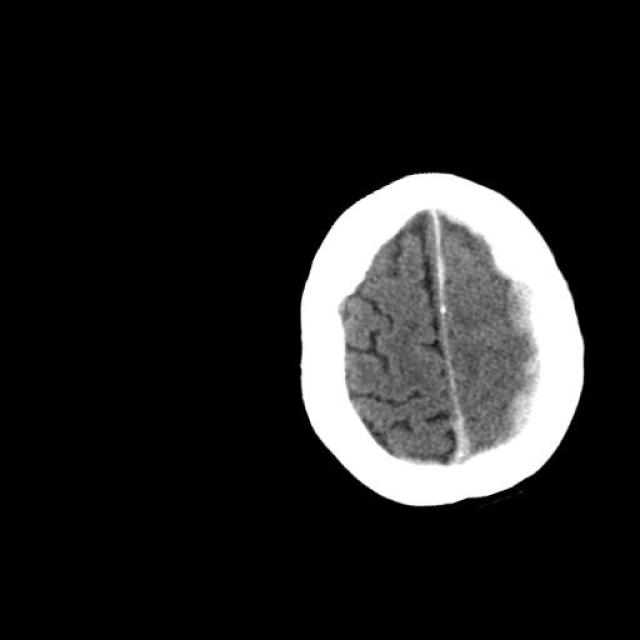Subdural: (453, 283, 601, 466), (410, 349, 506, 490)
